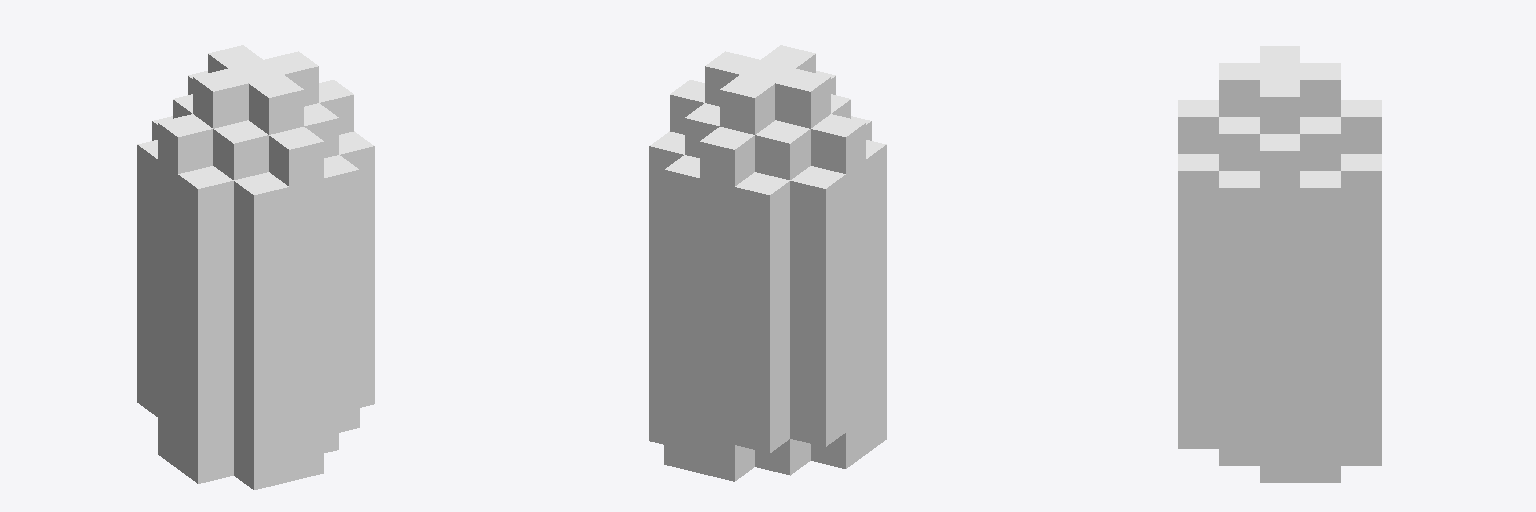
The model's file is PlayerLef.obj.
3 renders of one model, left to right at view 1: azimuth 30°, elevation 25°; view 2: azimuth 150°, elevation 25°; view 3: azimuth 270°, elevation 25°, orthographic.
Bounding box in the file's own units: 5 × 10 × 5.